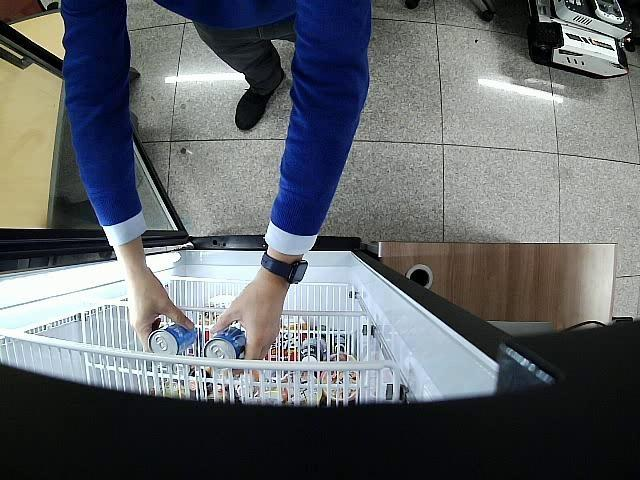15_letsbe: (150, 323, 198, 355), (205, 326, 246, 360)
